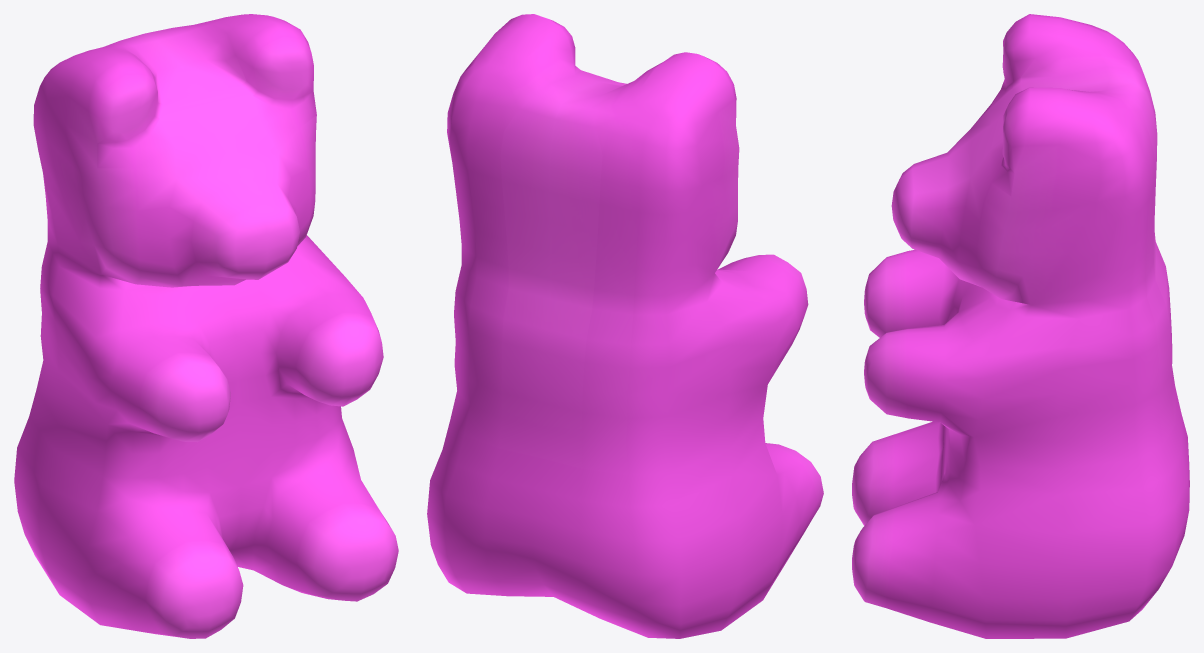
File: GummiBear_01.glb
3 renders of one model, left to right at view 1: azimuth 30°, elevation 25°; view 2: azimuth 150°, elevation 25°; view 3: azimuth 270°, elevation 25°, orthographic. The views are drawn at different scales.
Visible parts, largest first — view 1: GummiBear_01; view 2: GummiBear_01; view 3: GummiBear_01.
Boxes of the visible parts, x1,y1,x2,y2 form: GummiBear_01: (14,14,398,638); GummiBear_01: (427,14,823,638); GummiBear_01: (852,14,1189,638).
Size of the model in its own units: 1.92 by 3.54 by 2.03.
Materials: 1 (1 with a texture image).
